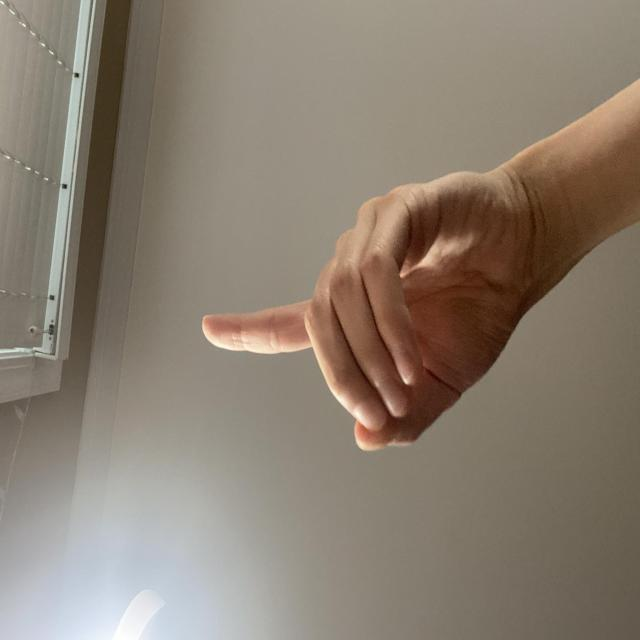D: (136, 262, 379, 640)
